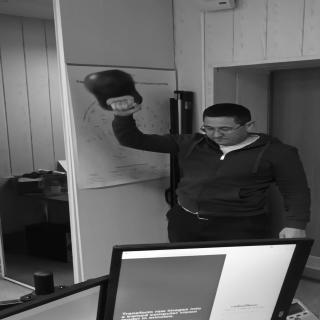kettlebell: (85, 70, 145, 112)
